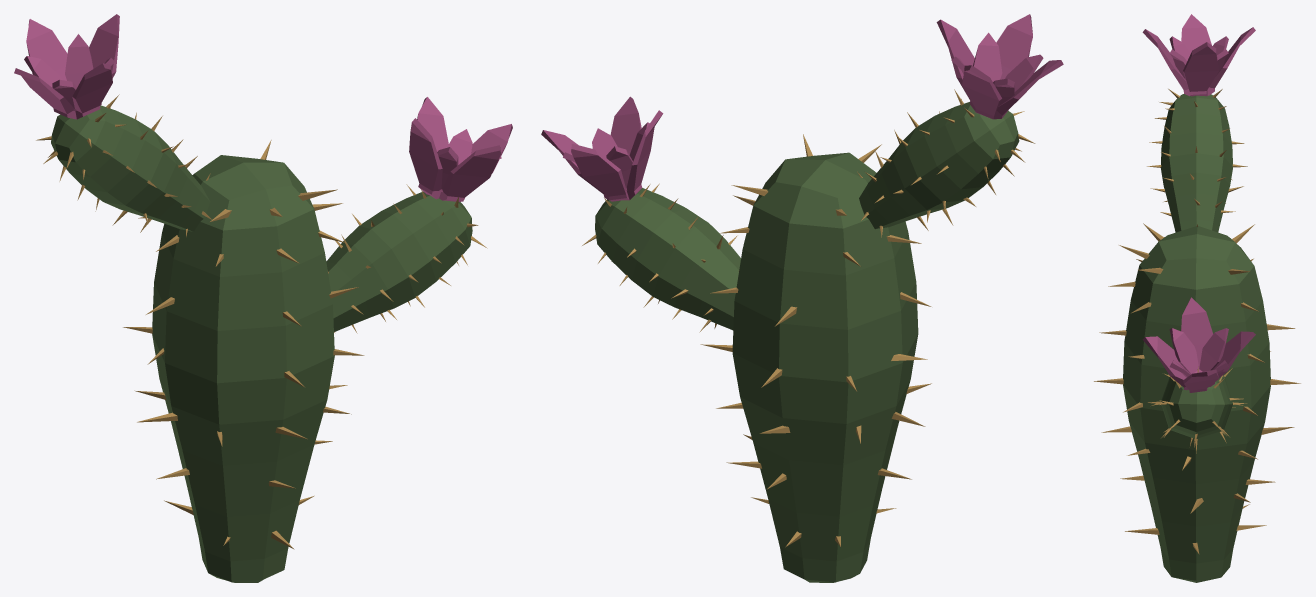
Rendered from cactus_4.gltf.
3 views of the same model, side by side, from view 1: azimuth 30°, elevation 25°; view 2: azimuth 150°, elevation 25°; view 3: azimuth 270°, elevation 25° (orthographic). The views are drawn at different scales.
Visible parts, largest first — view 1: cactus_4; view 2: cactus_4; view 3: cactus_4.
Part boxes in pixels (left/top/right/bottom): cactus_4: left=14, top=14, right=512, bottom=582; cactus_4: left=541, top=14, right=1063, bottom=582; cactus_4: left=1094, top=14, right=1300, bottom=582.
Bounding box in the file's own units: 1.31 × 1.43 × 0.5629.
1 material, 1 textured.
